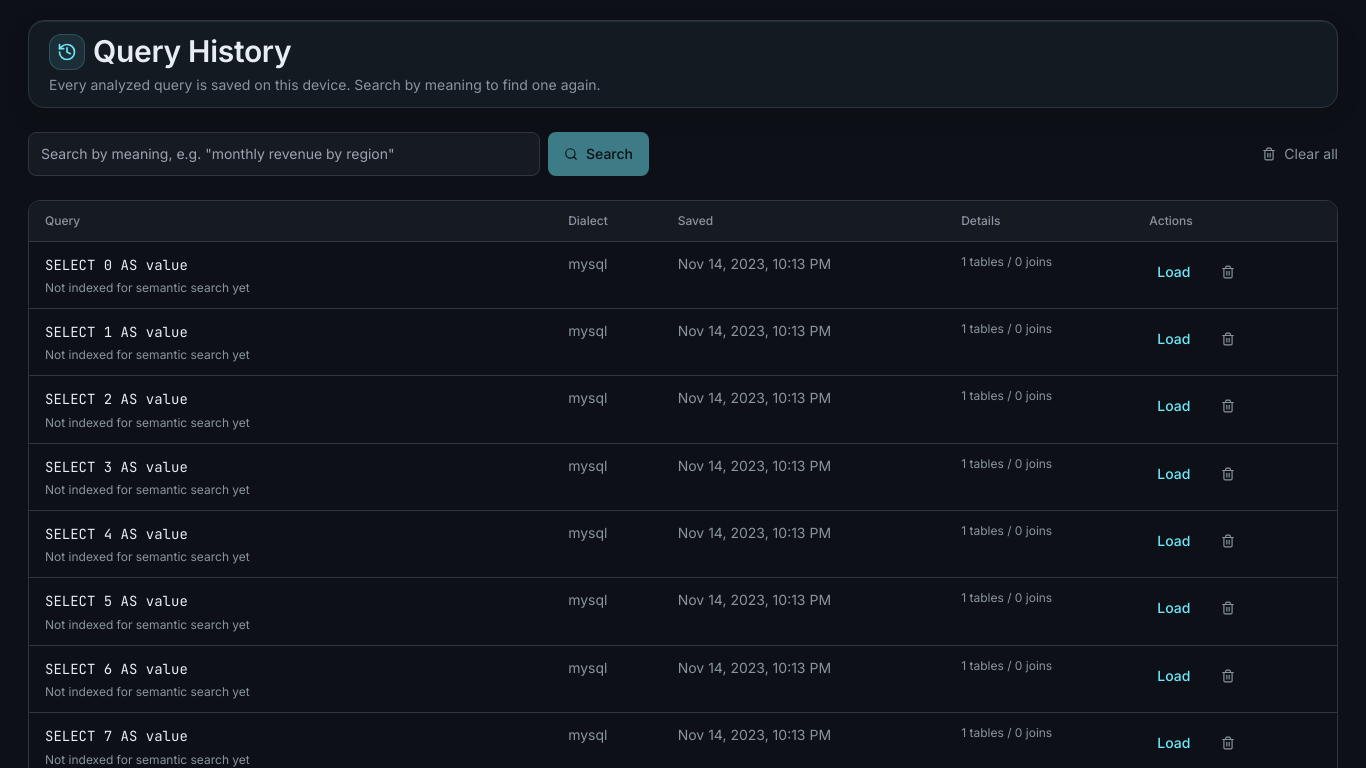
Query history page › ignores a semantic result when the search text changes before it finishes
Expected: the text "SELECT 0 AS value" is shown, [45, 256, 188, 274]
Type "old" into the search field at (284, 154), box [28, 132, 540, 176]
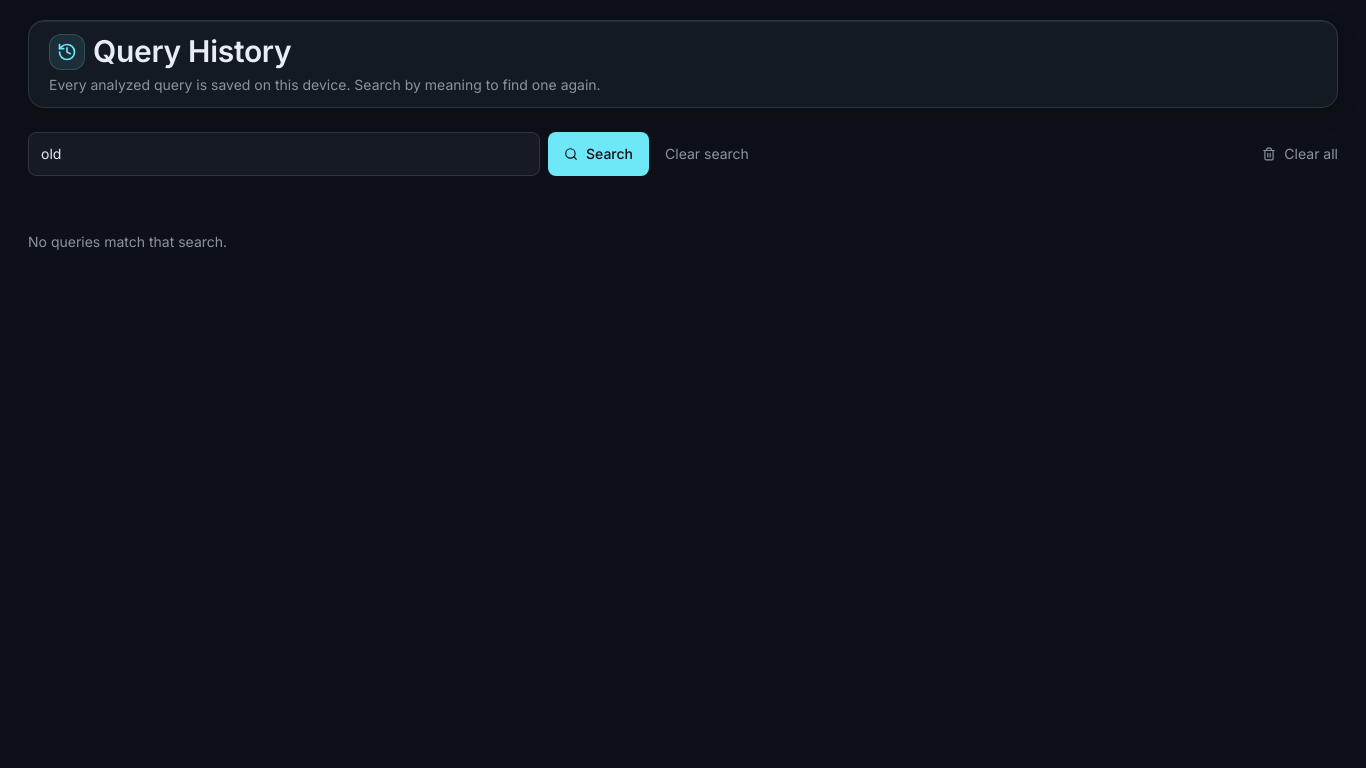
Click the button "Search" at (598, 154), box [548, 132, 649, 176]
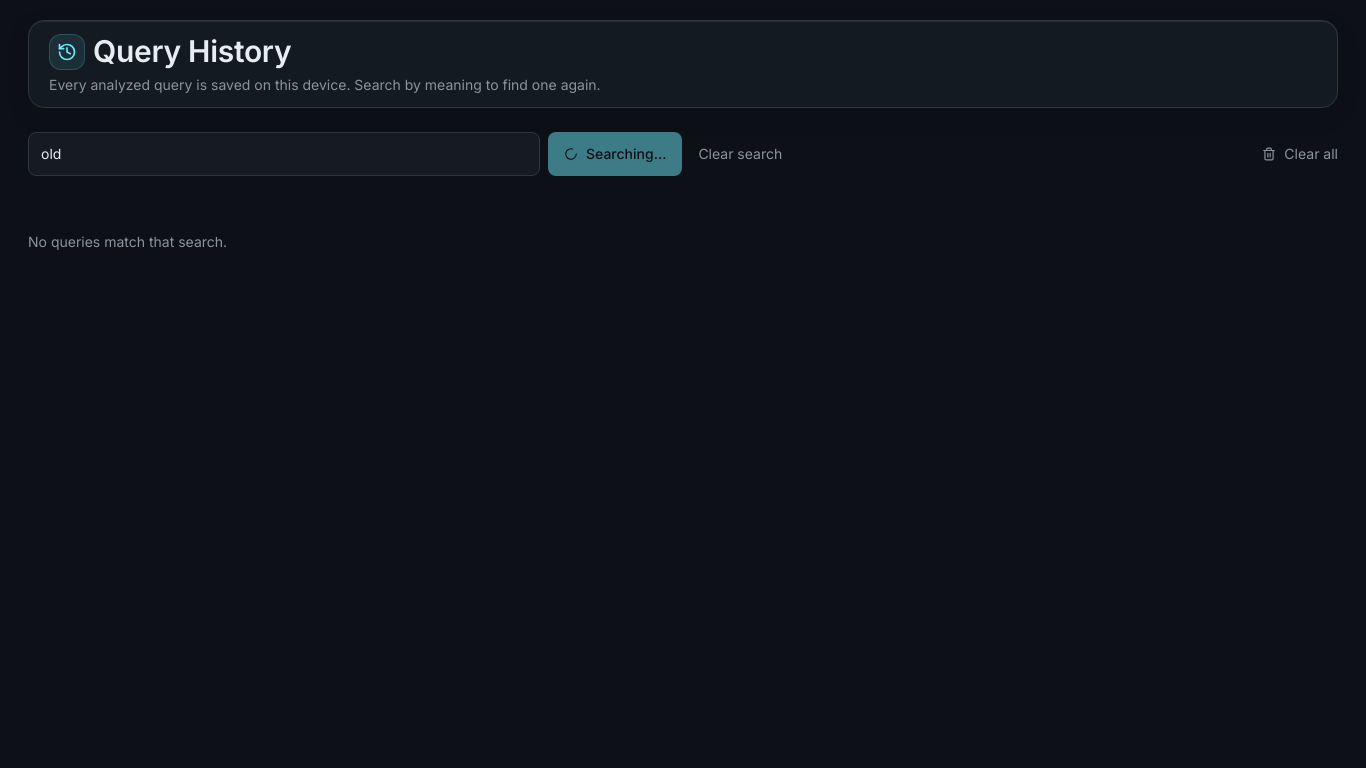
Replace the text in the search field with "SELECT 40" at (284, 154), box [28, 132, 540, 176]
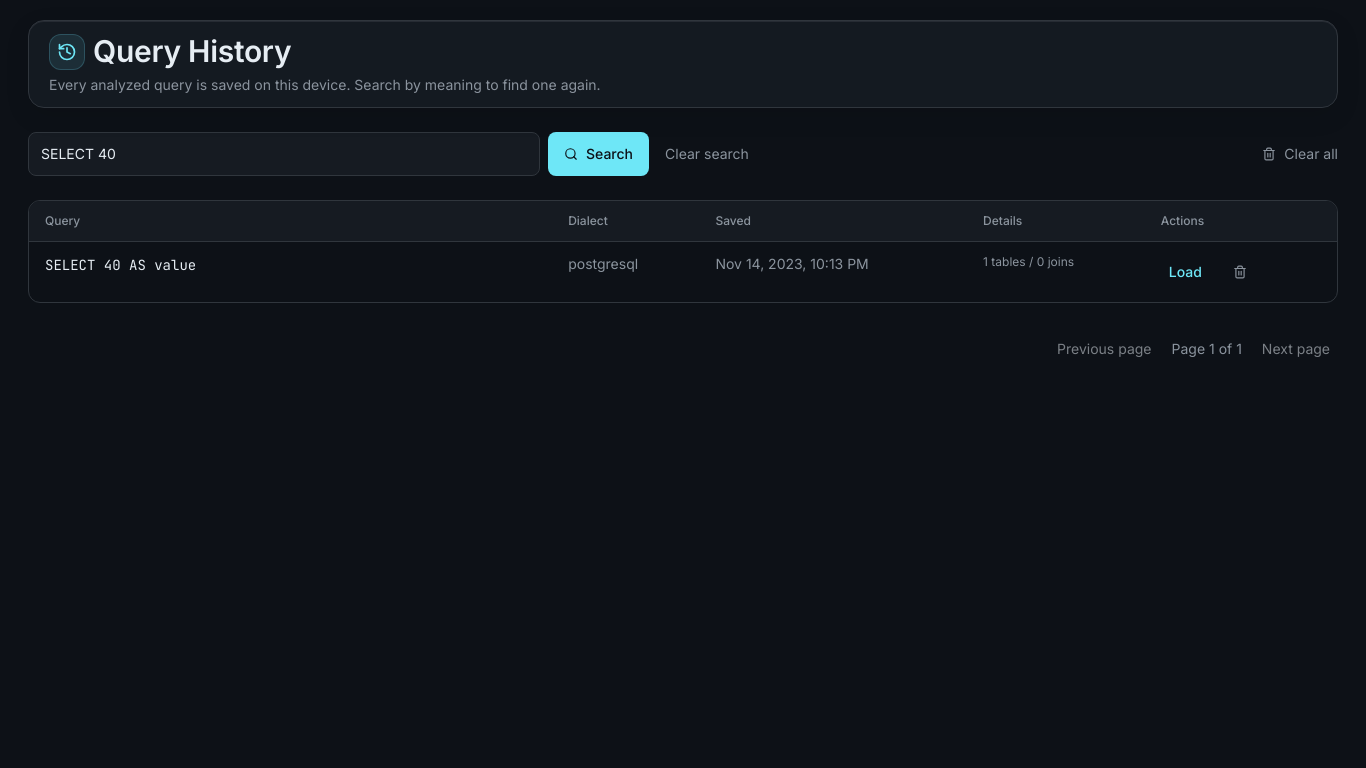
Expected: the text "SELECT 0 AS value" is not shown
Result: the text "SELECT 40 AS value" is shown at [45, 256, 196, 274]
